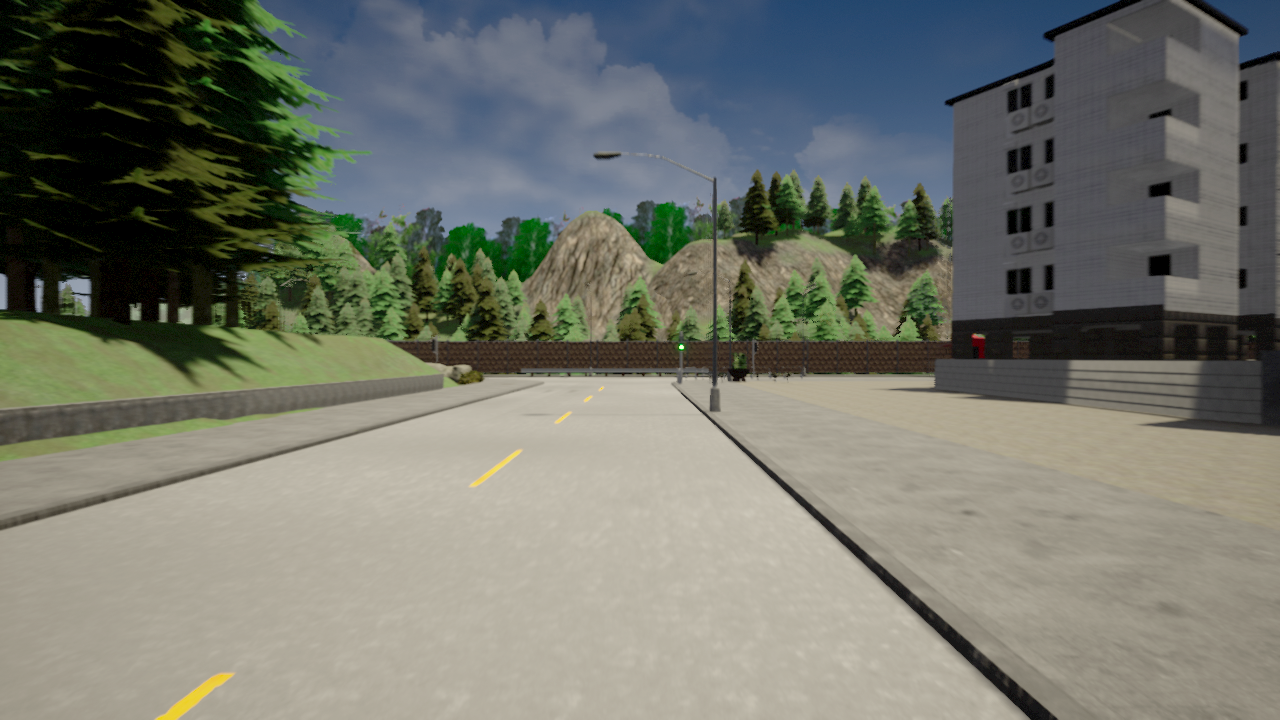green: (678, 336, 685, 350)
